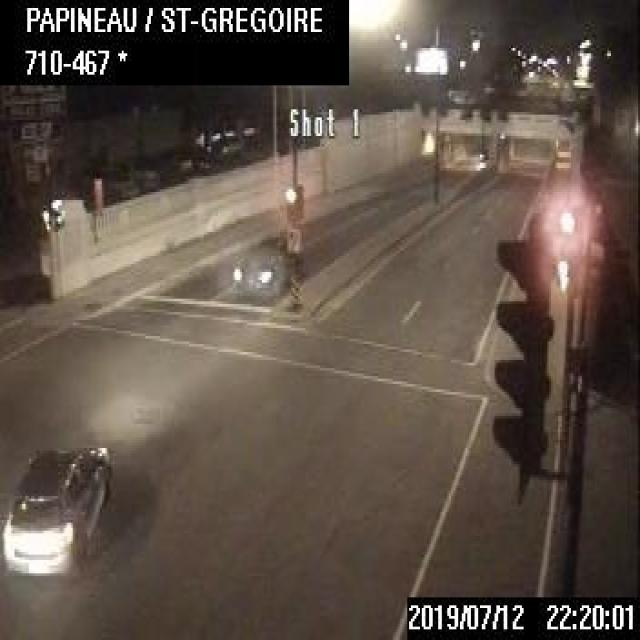vehicle: (0, 440, 113, 571), (231, 232, 303, 291)
